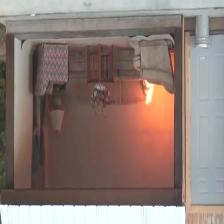fire: (138, 77, 156, 108)
